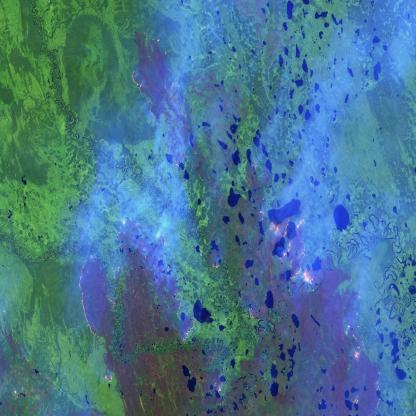fire: (254, 195, 390, 416), (76, 208, 202, 389), (121, 15, 212, 185)
